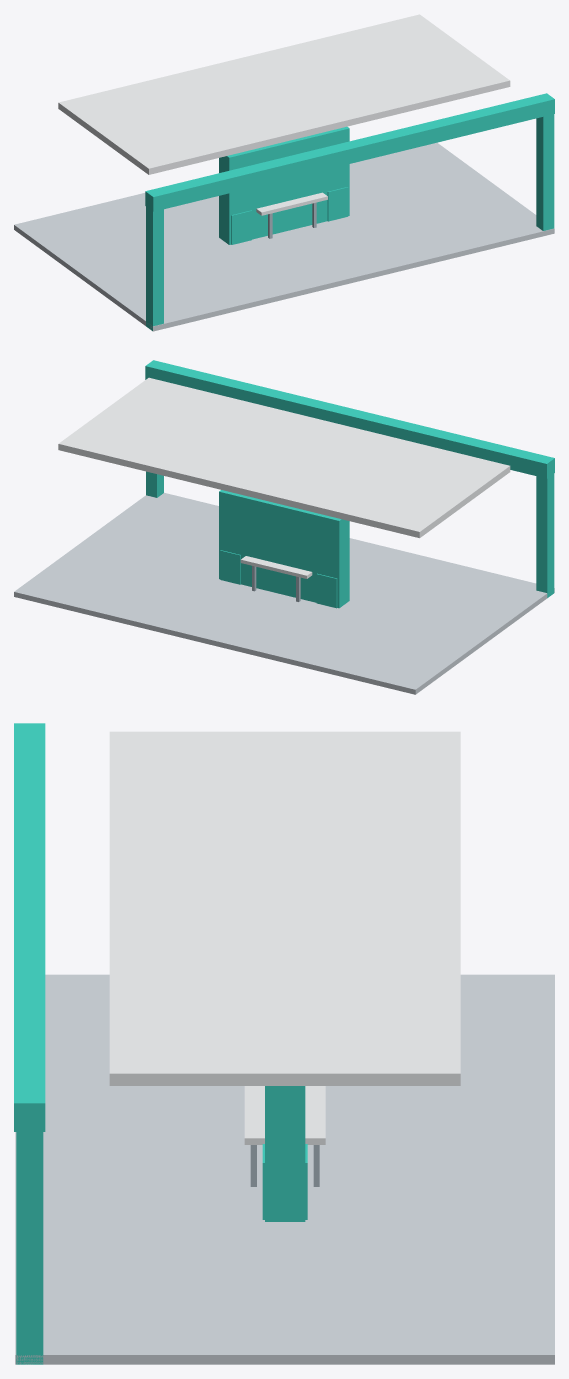
The picture shows the model from 3 angles, top to bottom: view 1: azimuth 30°, elevation 25°; view 2: azimuth 150°, elevation 25°; view 3: azimuth 270°, elevation 25°; orthographic projection. The views are drawn at different scales.
Parts seen in each view (by area): view 1: Exhibition Booth Concept; view 2: Exhibition Booth Concept; view 3: Exhibition Booth Concept.
Boxes of the visible parts, left/top/right/bottom form: Exhibition Booth Concept: left=14, top=14, right=554, bottom=331; Exhibition Booth Concept: left=14, top=360, right=554, bottom=694; Exhibition Booth Concept: left=14, top=723, right=554, bottom=1364.
Size of the model in its own units: 10 by 3.34 by 6.02.
